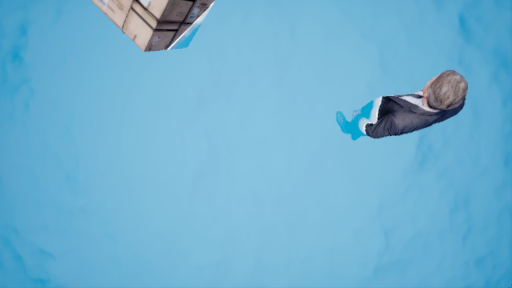person: (342, 58, 481, 161)
